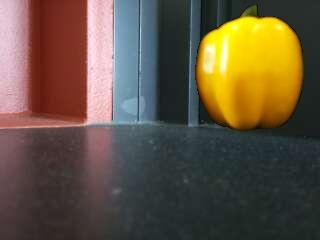Capsicum: (195, 5, 303, 131)
